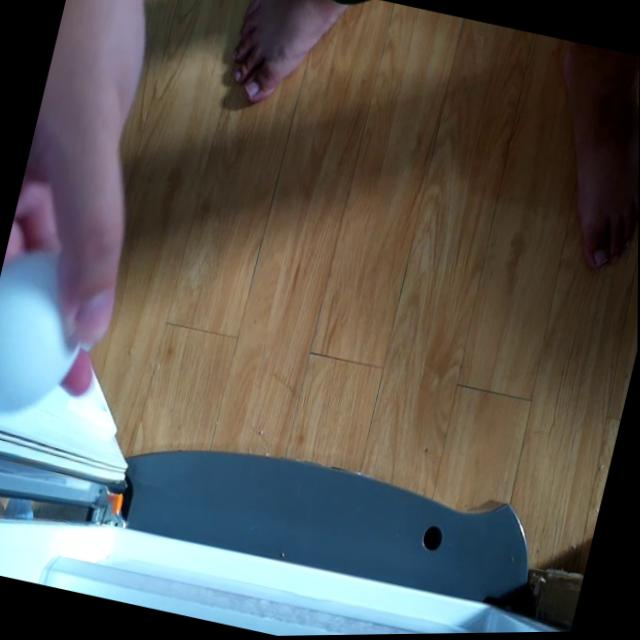egg: (0, 238, 101, 426)
